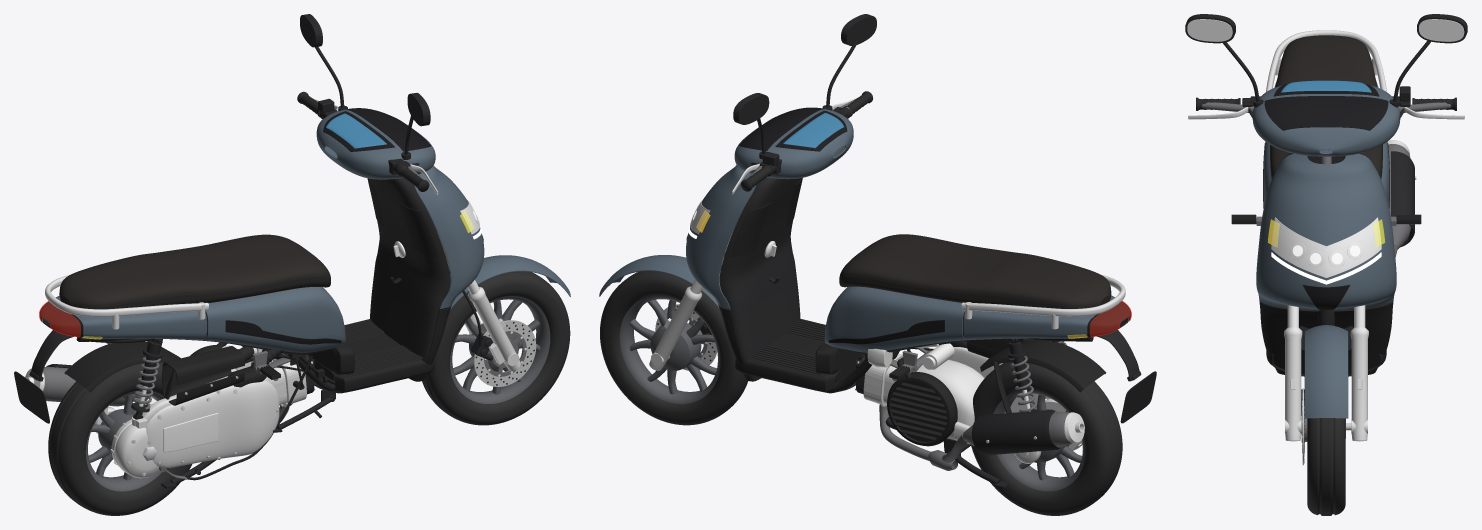
The model's file is bike_scooter.glb.
3 views of the same model, side by side, from view 1: azimuth 30°, elevation 25°; view 2: azimuth 150°, elevation 25°; view 3: azimuth 270°, elevation 25° (orthographic). The views are drawn at different scales.
Visible parts, largest first — view 1: frame_body__seat, frame_body__leg_shield, wheels__front_wheel__tyre, wheels__rear_wheel__tyre, powertrain__cvt__cover, frame_body__side_panels, frame_body__front_shield, frame_body__tail_cowl, frame_body__handlebar_cowl, frame_body__rear_hugger, frame_body__floorboard, wheels__front_wheel__rim (+26 smaller); view 2: frame_body__seat, wheels__rear_wheel__tyre, frame_body__leg_shield, wheels__front_wheel__tyre, frame_body__side_panels, frame_body__front_shield, powertrain__exhaust__heat_shield, frame_body__tail_cowl, wheels__front_wheel__cast_spokes, frame_body__rear_hugger, frame_body__handlebar_cowl, powertrain__engine__radiator_cover (+27 smaller); view 3: frame_body__front_shield, frame_body__seat, frame_body__handlebar_cowl, electrical__instruments, frame_body__front_mudguard, wheels__front_wheel__tyre, frame_body__front_lower_cover, electrical__headlight__reflector, electrical__headlight__lens, chassis__handlebar__mirrors, chassis__front_fork__left_slider, chassis__front_fork__right_slider (+14 smaller).
Boxes of the visible parts, x1,y1,x2,y2 form: frame_body__seat: (59,234,330,308); frame_body__leg_shield: (368,178,450,381); wheels__front_wheel__tyre: (422,271,570,425); wheels__rear_wheel__tyre: (48,362,192,515); powertrain__cvt__cover: (145,380,279,467); frame_body__side_panels: (204,287,345,352); frame_body__front_shield: (413,165,484,309); frame_body__tail_cowl: (42,295,206,340); frame_body__handlebar_cowl: (316,109,435,179); frame_body__rear_hugger: (64,341,180,399); frame_body__floorboard: (305,334,434,393); wheels__front_wheel__rim: (450,296,550,403); frame_body__seat: (839,234,1111,308); wheels__rear_wheel__tyre: (971,362,1122,515); frame_body__leg_shield: (719,177,801,381); wheels__front_wheel__tyre: (600,271,748,425); frame_body__side_panels: (824,286,965,352); frame_body__front_shield: (686,165,756,308); powertrain__exhaust__heat_shield: (972,409,1060,455); frame_body__tail_cowl: (963,295,1128,340); wheels__front_wheel__cast_spokes: (629,299,716,394); frame_body__rear_hugger: (980,340,1106,413); frame_body__handlebar_cowl: (734,109,853,179); powertrain__engine__radiator_cover: (887,372,957,446); frame_body__front_shield: (1256,153,1396,310); frame_body__seat: (1270,35,1382,176); frame_body__handlebar_cowl: (1252,85,1400,156); electrical__instruments: (1264,83,1388,130); frame_body__front_mudguard: (1304,325,1348,418); wheels__front_wheel__tyre: (1307,418,1345,515); frame_body__front_lower_cover: (1259,300,1393,376); electrical__headlight__reflector: (1271,217,1381,277); electrical__headlight__lens: (1273,221,1379,275); chassis__handlebar__mirrors: (1185,14,1467,43); chassis__front_fork__left_slider: (1284,327,1302,441); chassis__front_fork__right_slider: (1350,327,1368,441).
Size of the model in its own units: 191 by 134 by 80.77.
